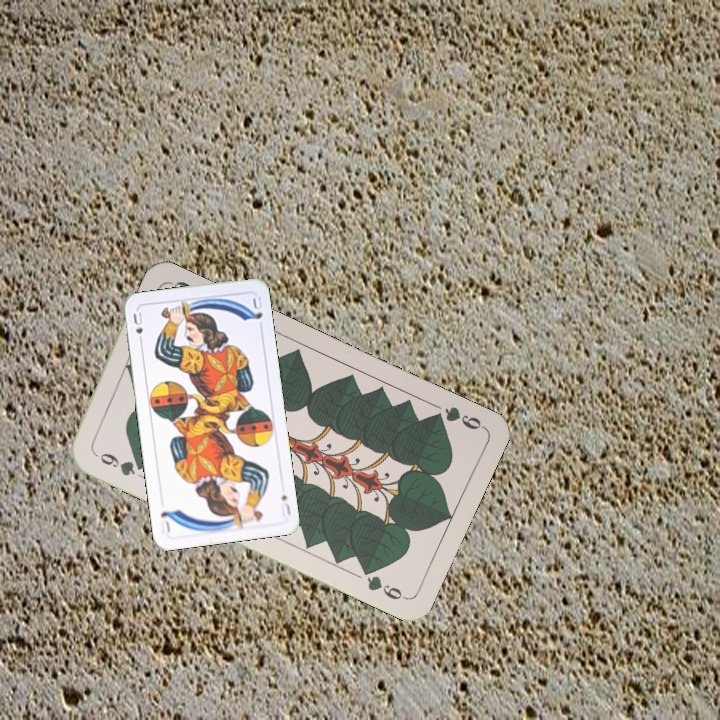G9: (426, 402, 487, 433), (89, 447, 148, 479)
SU: (129, 308, 147, 348), (277, 490, 293, 519)
